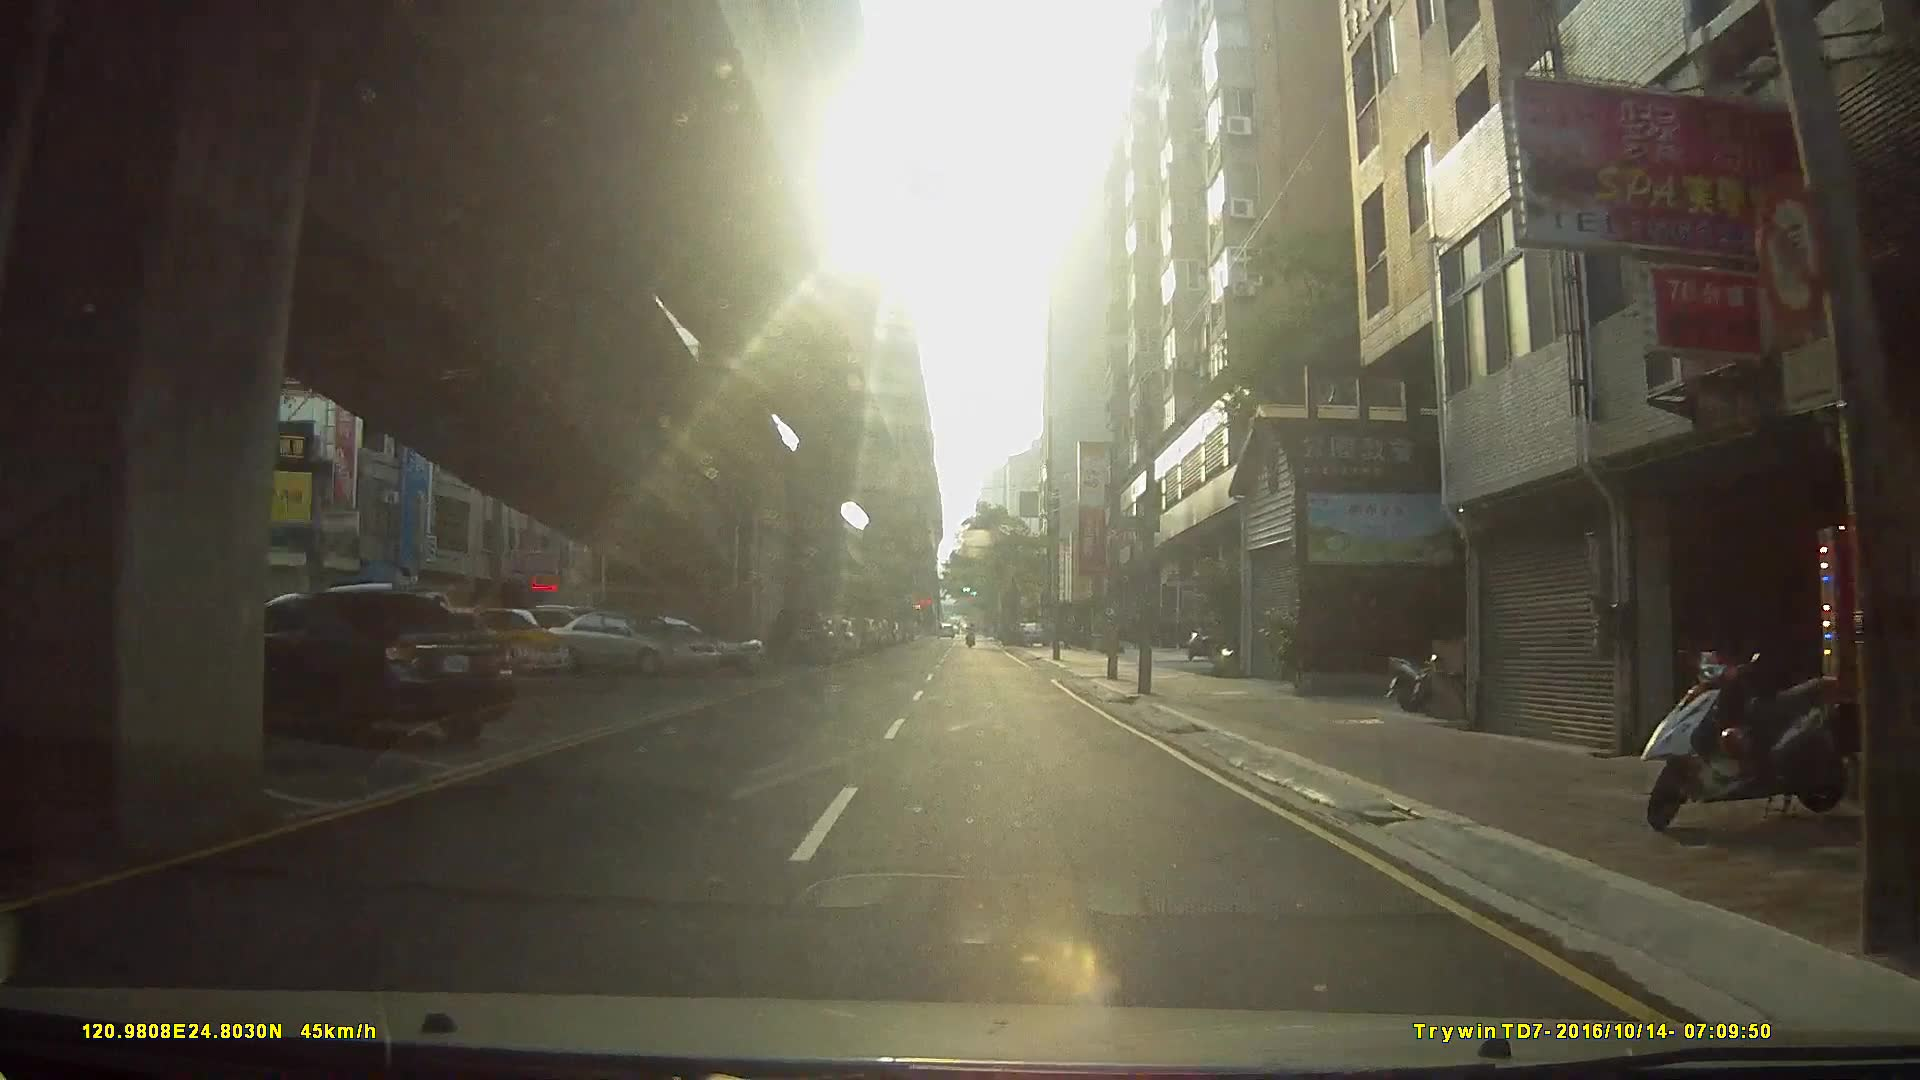vehicle: (218, 589, 516, 749), (538, 605, 720, 674), (446, 603, 572, 673), (766, 601, 837, 665)
